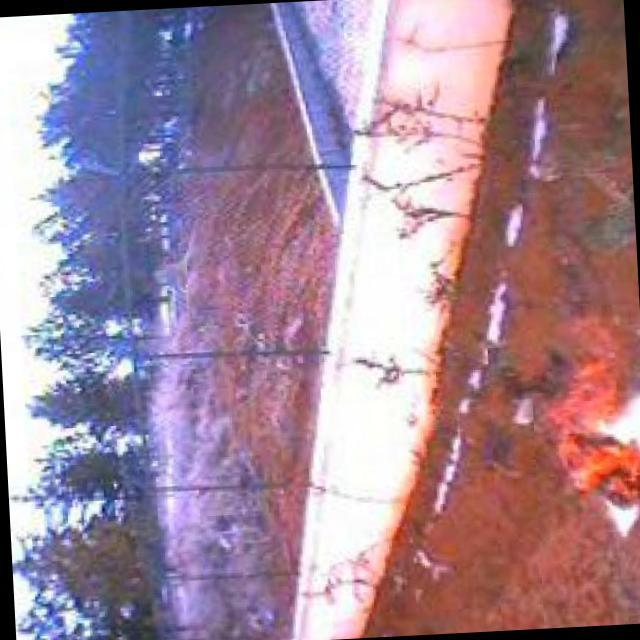Fire: (536, 338, 640, 516)
